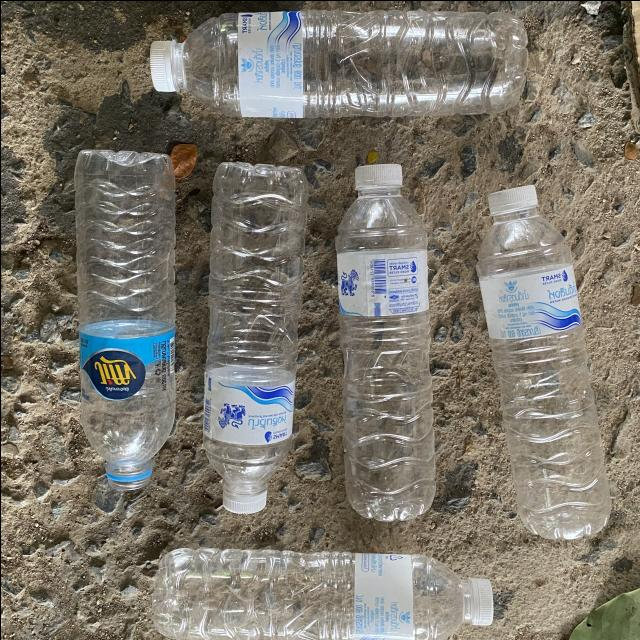plastik: (477, 184, 611, 538), (148, 9, 527, 117), (202, 161, 307, 511), (336, 164, 434, 520), (74, 149, 174, 489), (152, 548, 492, 640)
